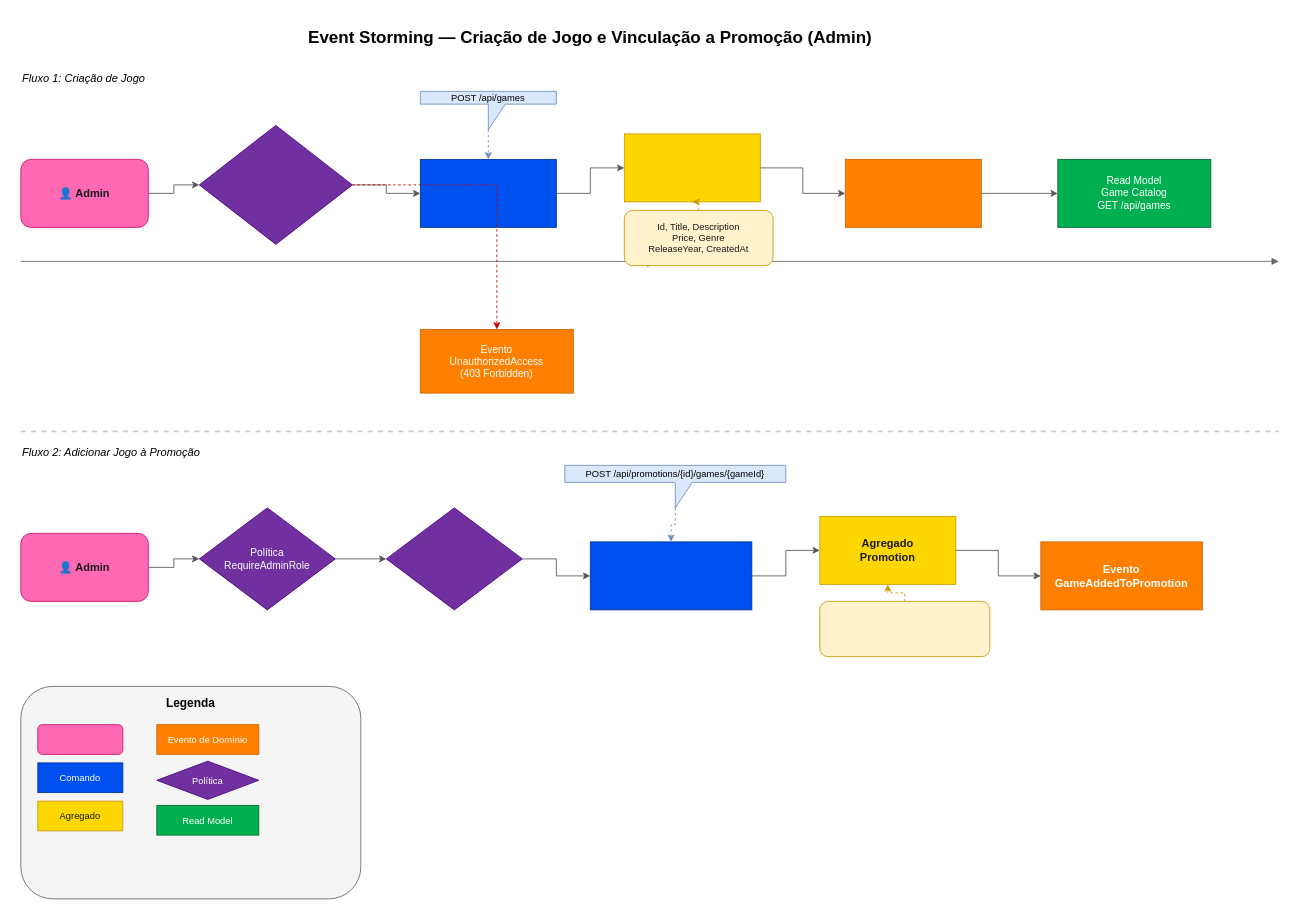
Some shapes in this 1301 by 914 pixel diagram are drawn without their labels. The centre of each missing label's shape, as x and y in pixels:
"Agregado Game" goes at pixel 691 167.
"Ator" goes at pixel 80 739.
"Comando AddGameToPromotion" goes at pixel 670 575.
"Comando CreateGame" goes at pixel 487 193.
"Entidade PromotionGame (PromotionId, GameId, AddedAt)" goes at pixel 904 629.
"Evento GameCreated" goes at pixel 912 193.
"Política GameMustExist (busca no DB)" goes at pixel 453 558.
"Política RequireAdminRole (JWT Role = Admin)" goes at pixel 275 184.
